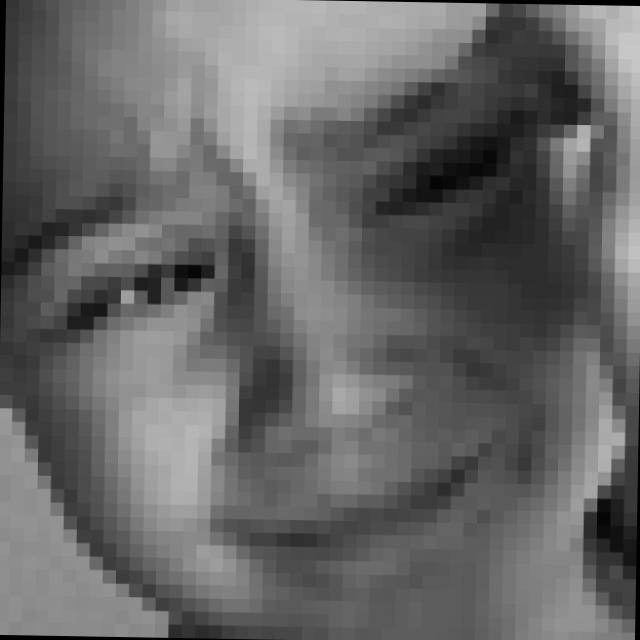sad: (0, 40, 553, 595)
